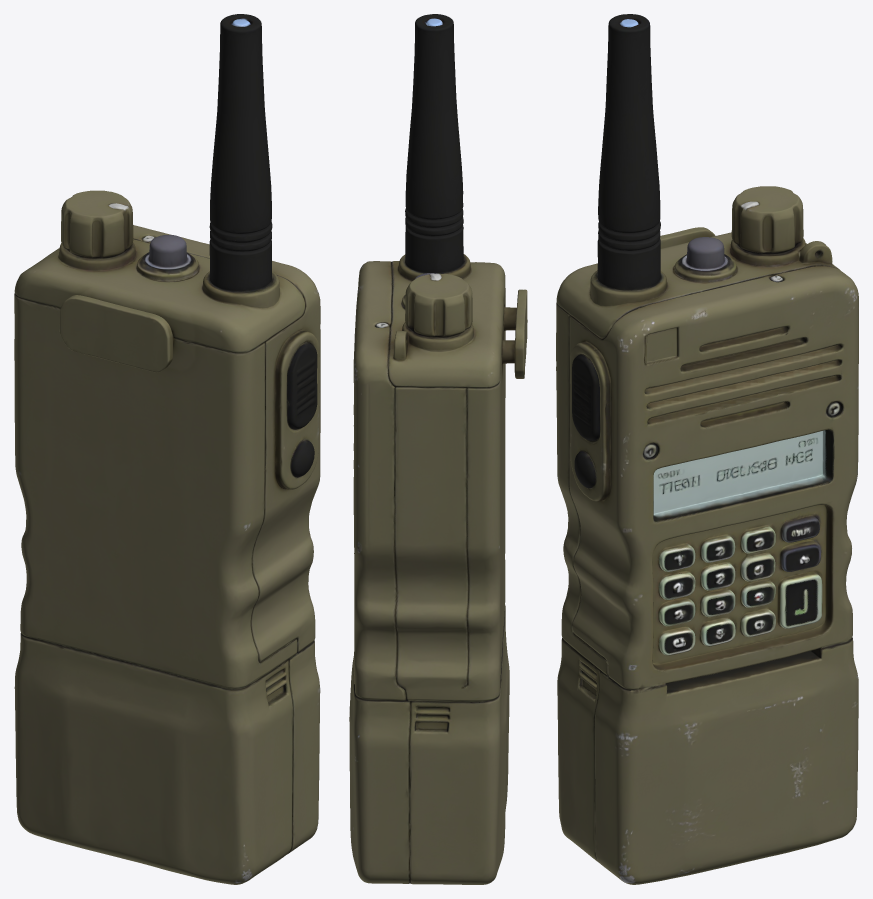
File: prop_radio-UQSWK473.glb
3 renders of one model, left to right at view 1: azimuth 30°, elevation 25°; view 2: azimuth 150°, elevation 25°; view 3: azimuth 270°, elevation 25°, orthographic. The views are drawn at different scales.
Bounding box in the file's own units: 0.28 × 0.9999 × 0.3296.
Materials: 1 (1 with a texture image).
